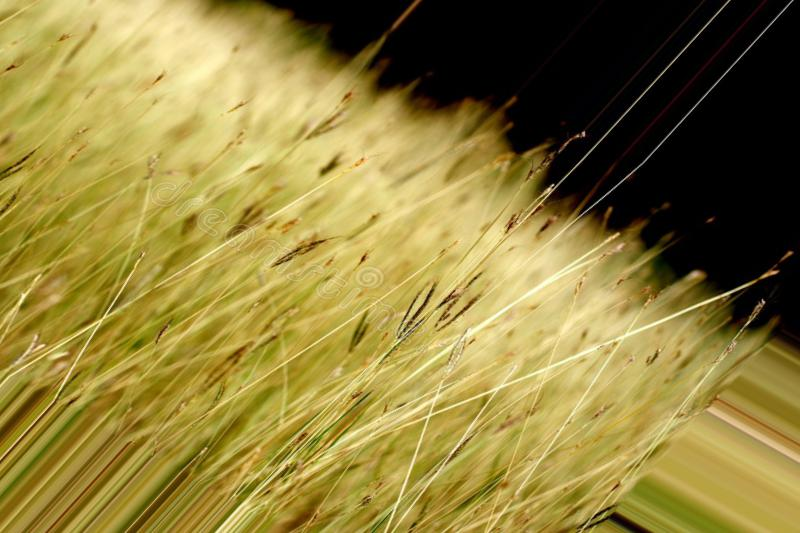patch: (354, 197, 463, 252)
